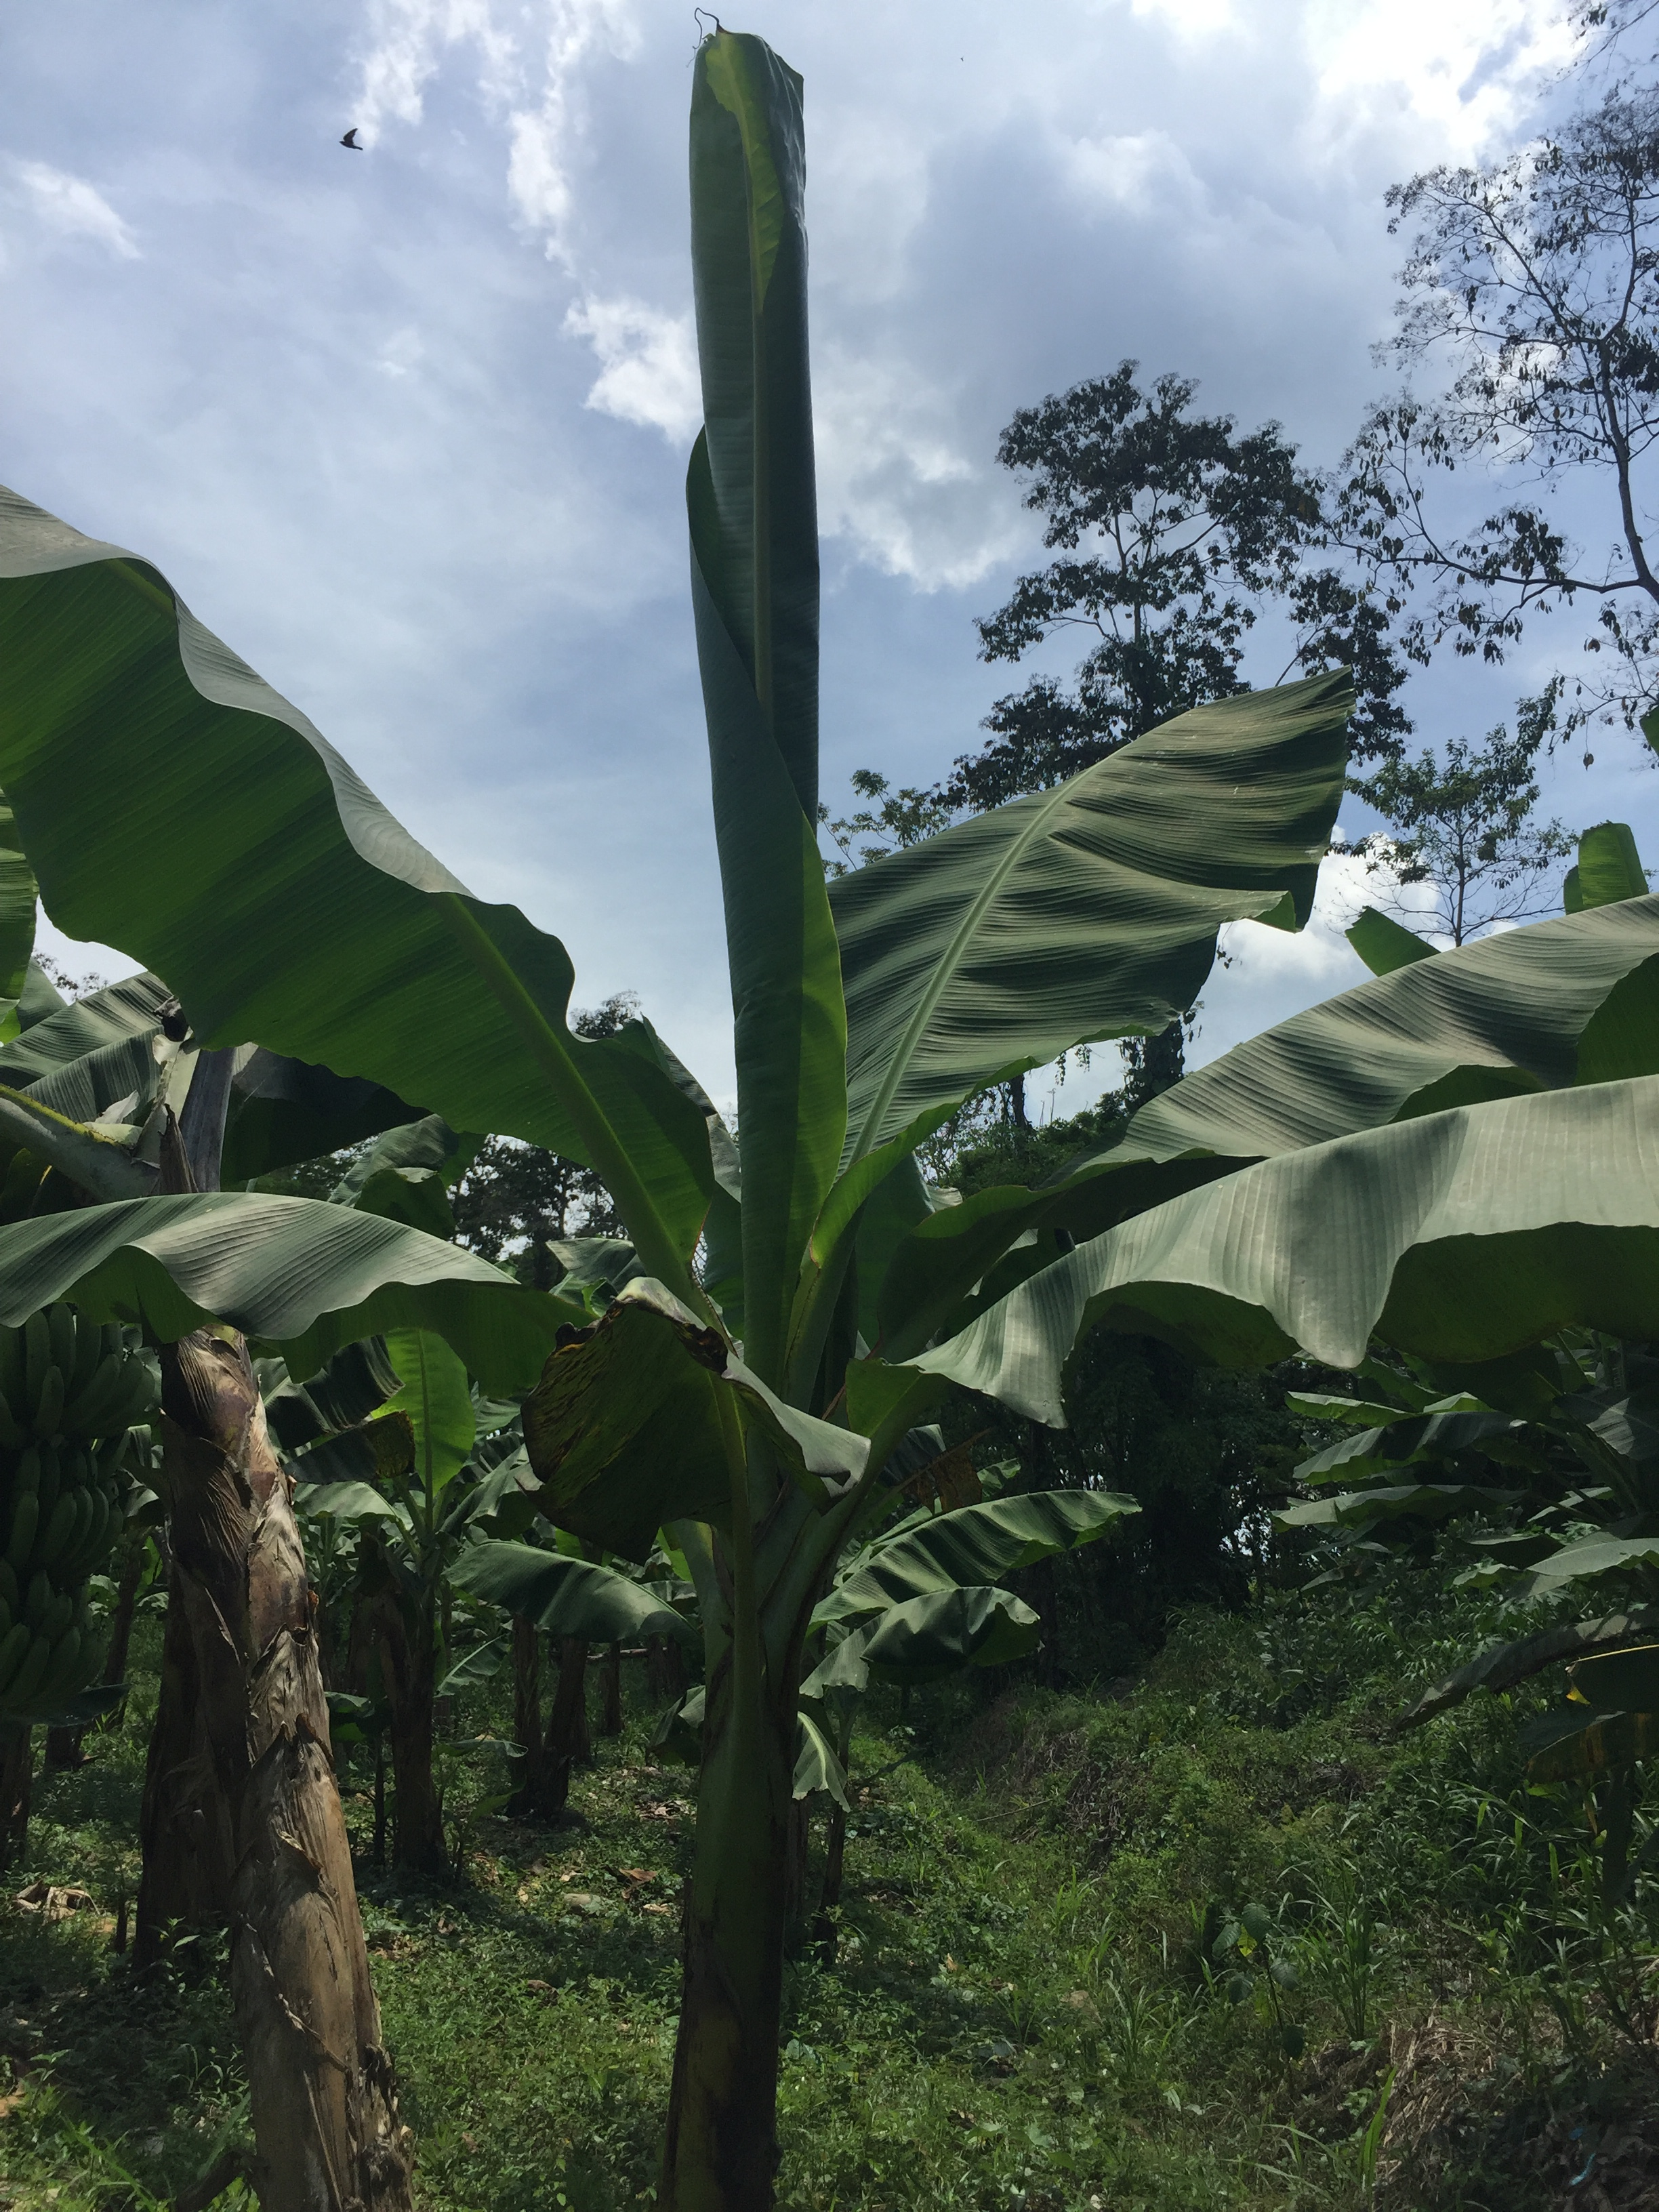candleleafs: (678, 33, 849, 1296)
